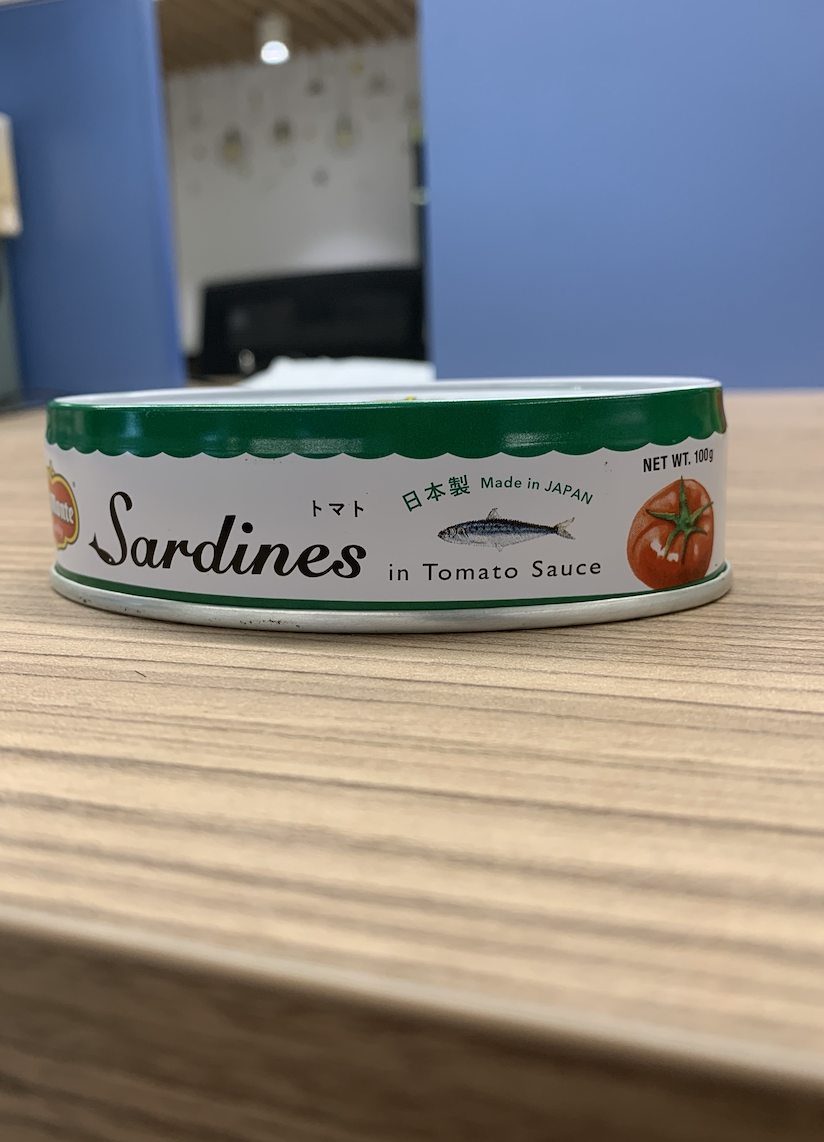sardines_100g-199g: (57, 417, 726, 594)
